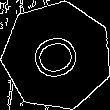O_E: (26, 28, 88, 84)
